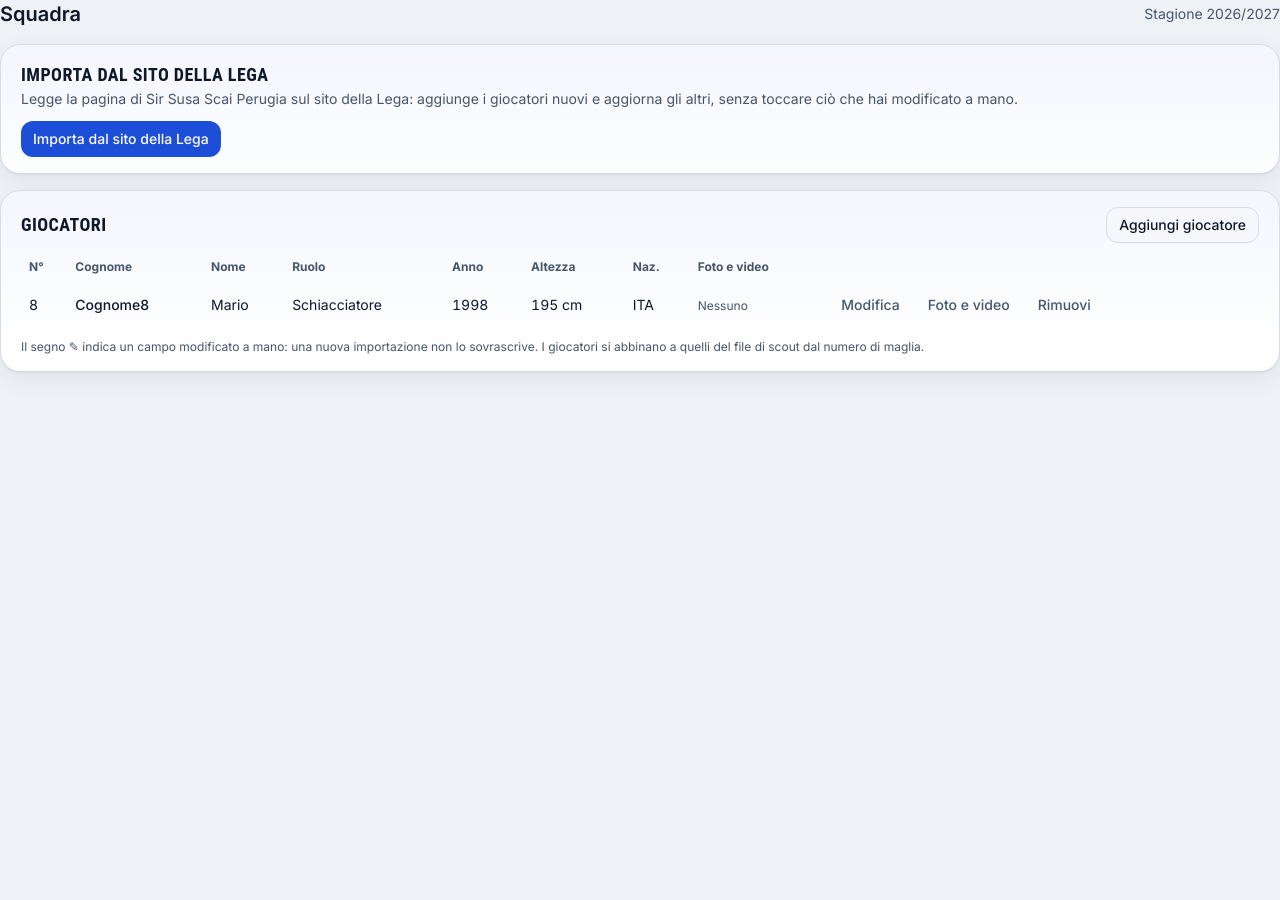
page «Squadra» › «Foto e video» without files in the library points to the library
Click the button with aria-label "Foto e video di" at (969, 305), box x1=916 y1=287 x2=1022 y2=323
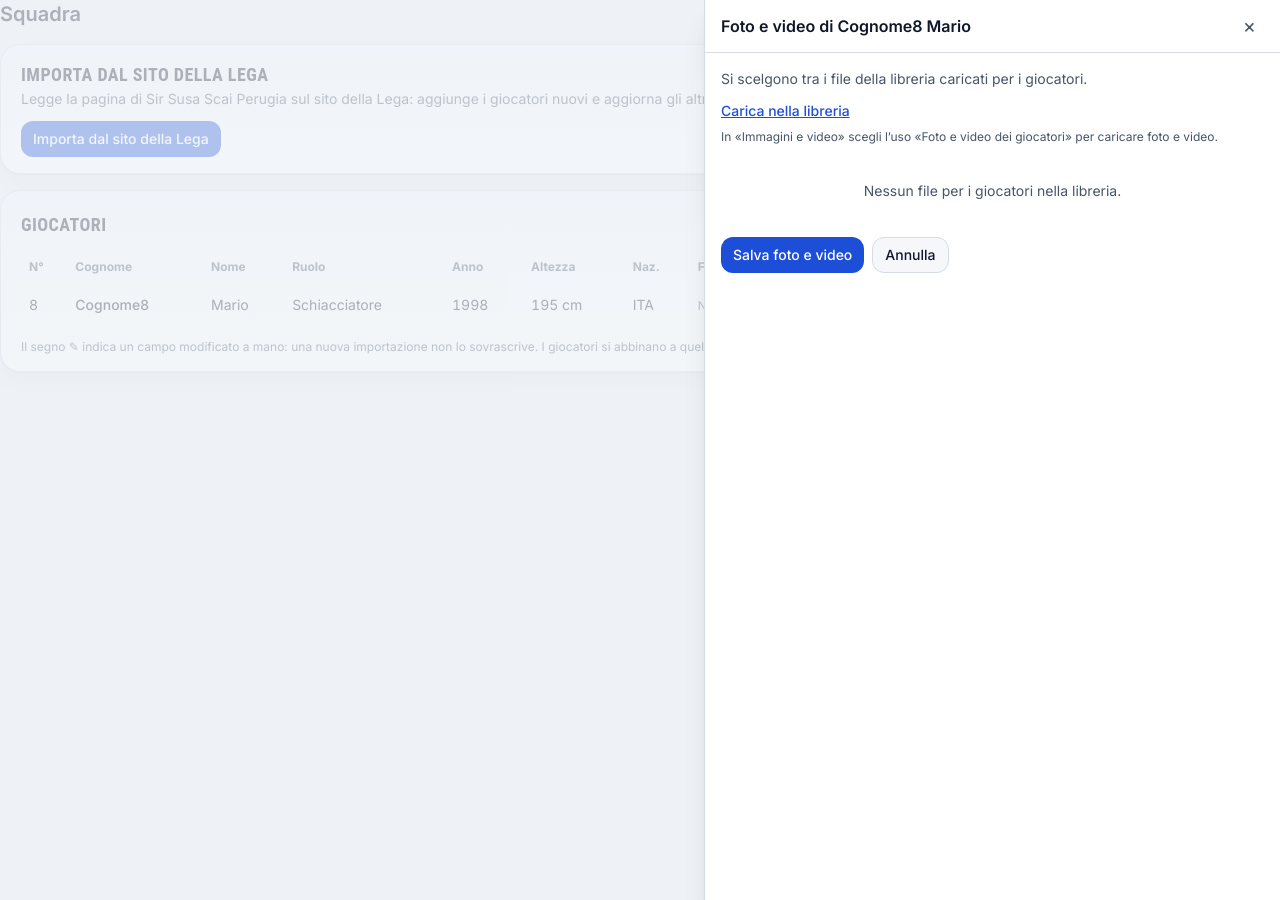
expect the text "Nessun file per i giocatori nella libreria." is shown: met, box x1=864 y1=182 x2=1121 y2=199
